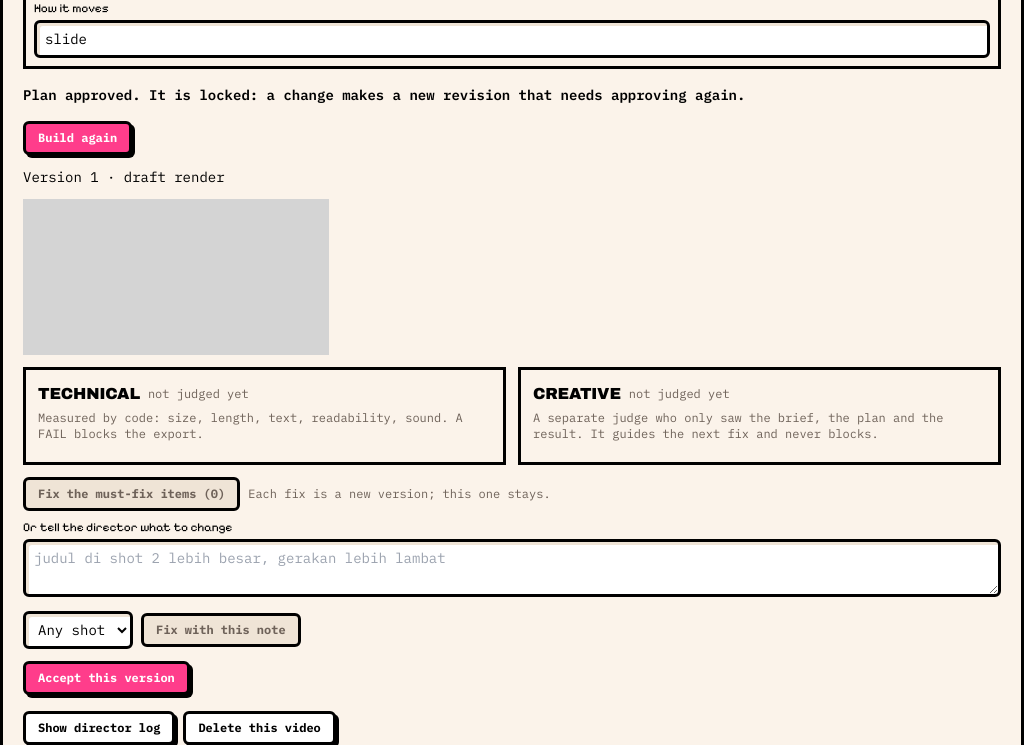
Test: GenerateWindow: building › accepting a build whose TECHNICAL failed is refused by the server and the error is shown
The width and height of the screenshot is (1024, 745).
(page scrolled)
Click the button "Accept this version" at (106, 678), box [23,661,190,695]
(page scrolled)
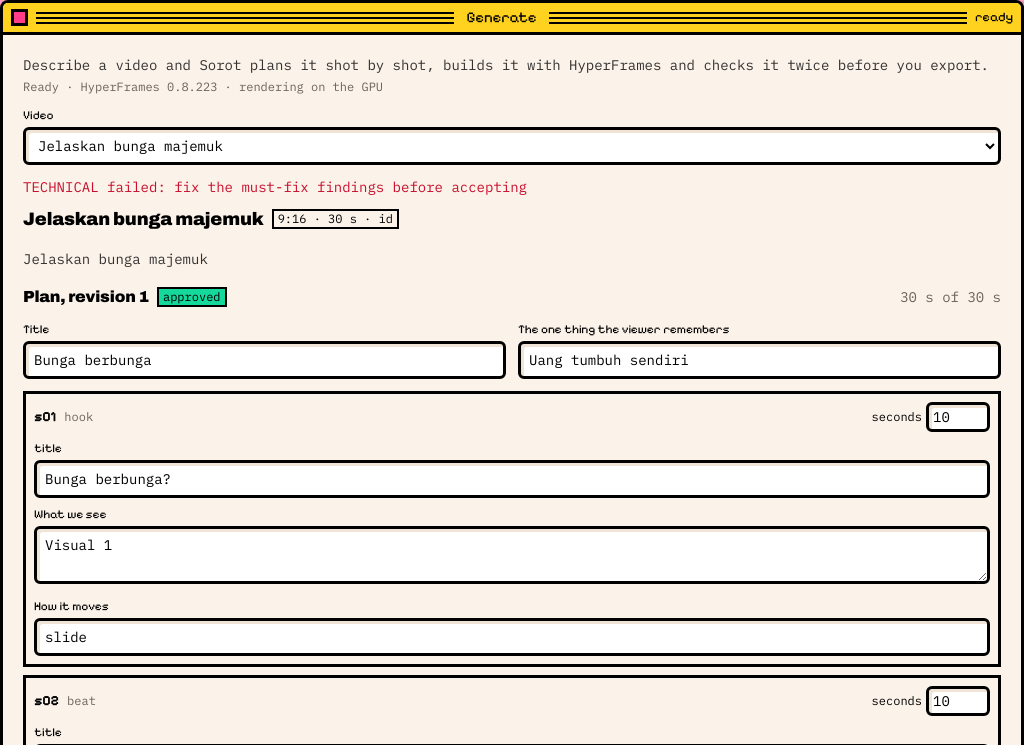
Result: the message shows "TECHNICAL failed" at [23,178,527,196]
